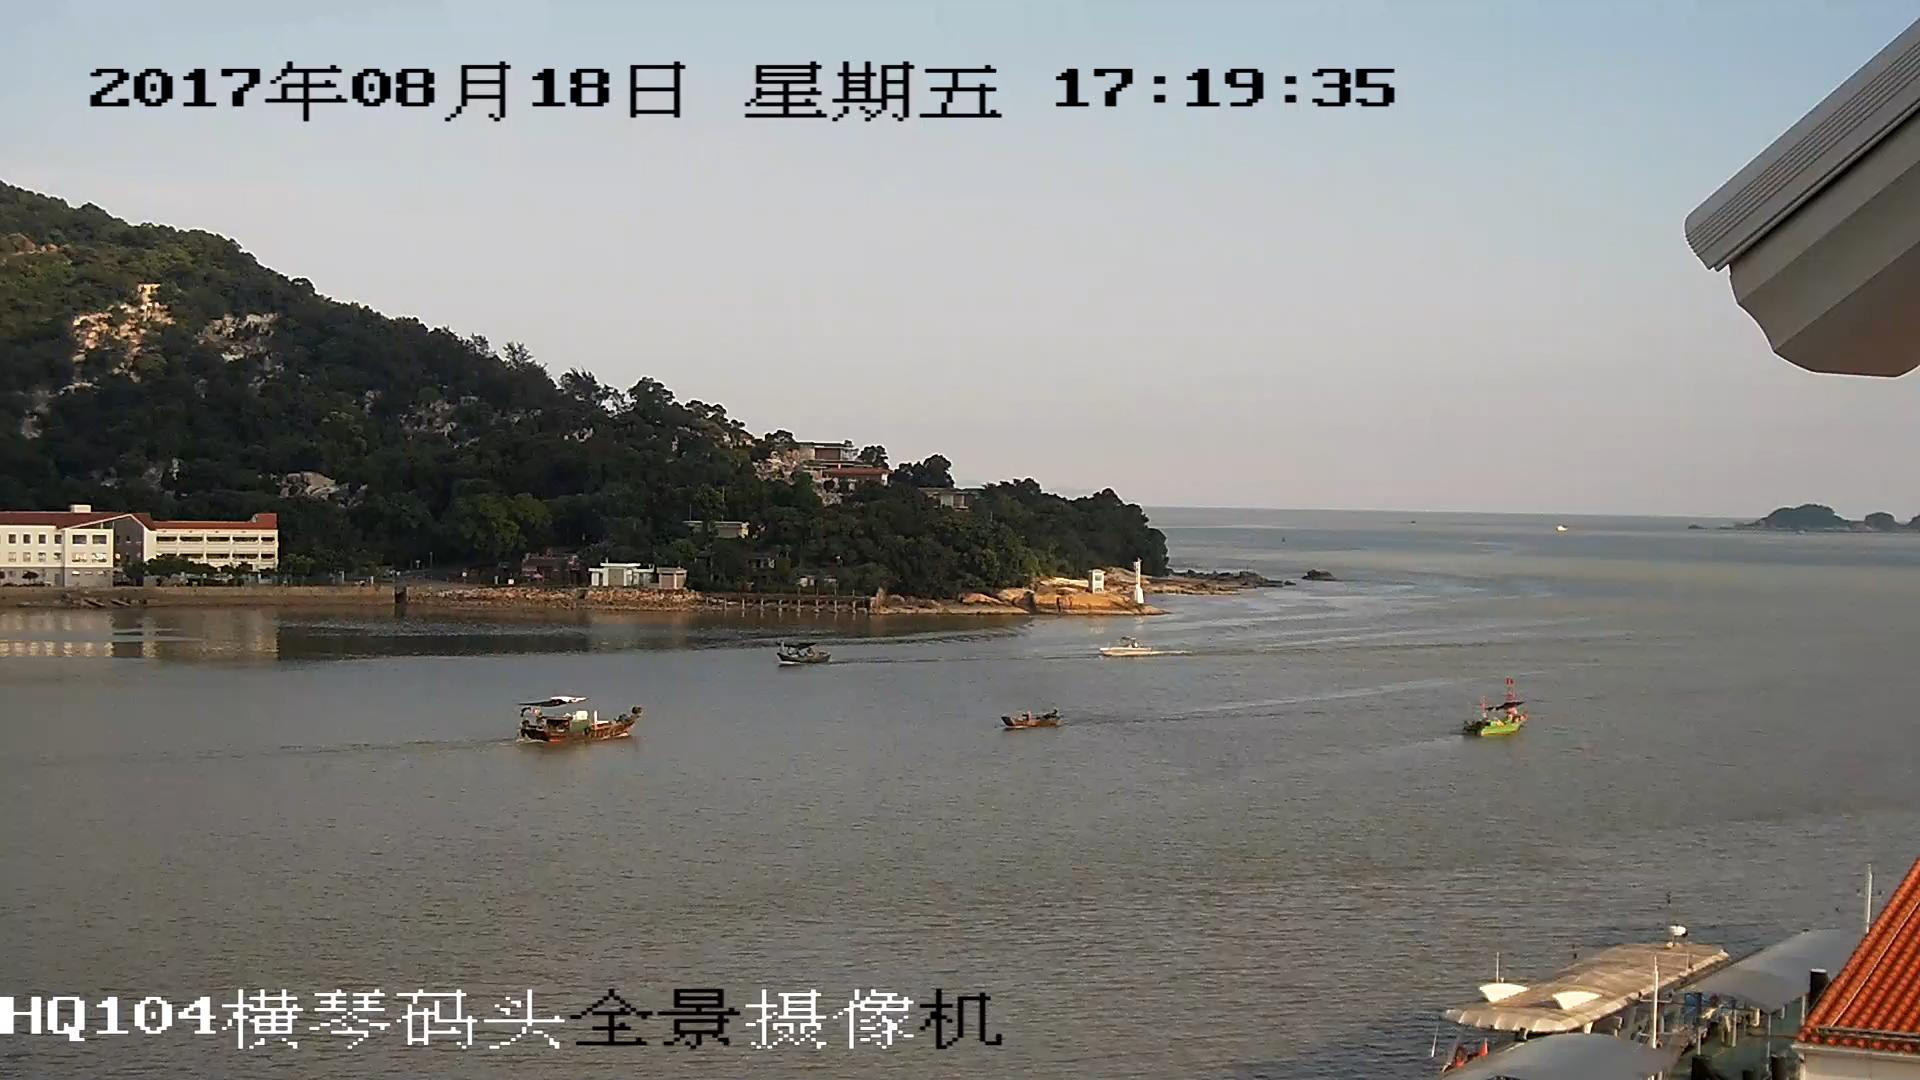fishing boat: (513, 697, 641, 740), (1464, 704, 1530, 738), (777, 640, 832, 667), (1004, 708, 1073, 726)
